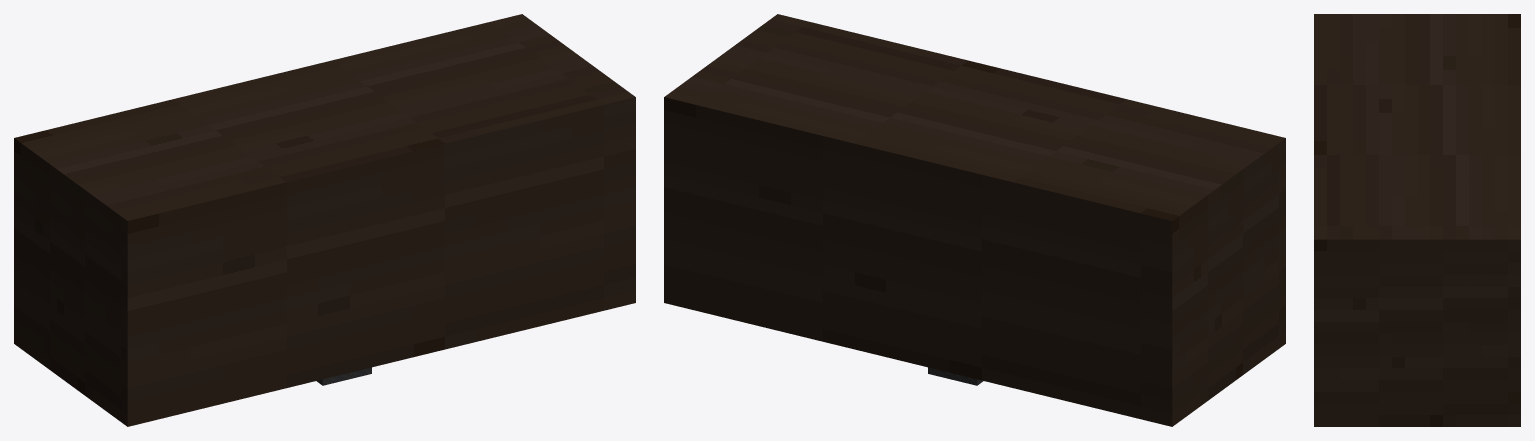
Rendered from arm_li.obj.
3 views of the same model, side by side, from view 1: azimuth 30°, elevation 25°; view 2: azimuth 150°, elevation 25°; view 3: azimuth 270°, elevation 25° (orthographic). The views are drawn at different scales.
Visible parts, largest first — view 1: crossarm_brooks_brown_li; view 2: crossarm_brooks_brown_li; view 3: crossarm_brooks_brown_li.
Part boxes in pixels (bbox=[...]): crossarm_brooks_brown_li: bbox=[14, 14, 635, 426]; crossarm_brooks_brown_li: bbox=[664, 14, 1285, 426]; crossarm_brooks_brown_li: bbox=[1314, 14, 1520, 426].
Bounding box in the file's own units: 0.9688 × 0.4625 × 0.375.
